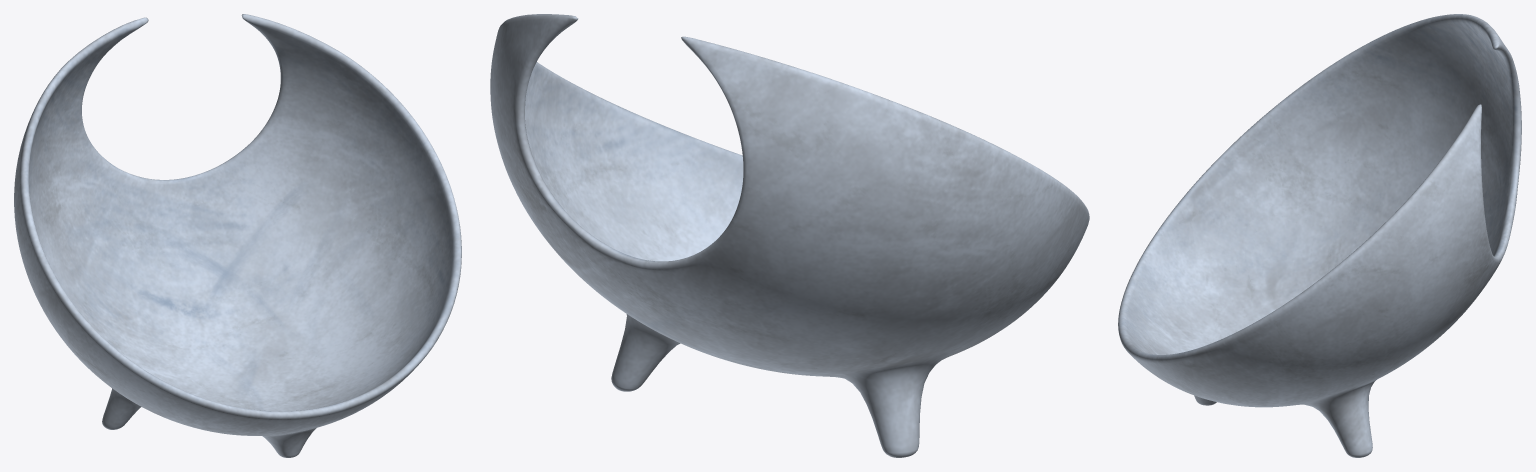
The picture shows the model from 3 angles, left to right: view 1: azimuth 30°, elevation 25°; view 2: azimuth 150°, elevation 25°; view 3: azimuth 270°, elevation 25°; orthographic projection. The views are drawn at different scales.
Size of the model in its own units: 1.3 by 1.04 by 1.08.
1 material, 1 textured.
